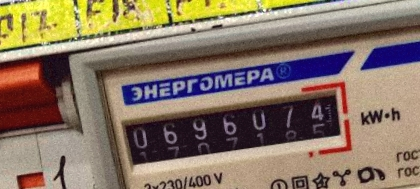0: (127, 123, 149, 150), (248, 105, 267, 132)
4: (305, 97, 324, 121)
5: (310, 121, 328, 138)
6: (219, 109, 239, 137), (159, 119, 179, 145)
7: (278, 101, 298, 129)
9: (188, 114, 208, 142)
screen: (109, 76, 356, 177)
